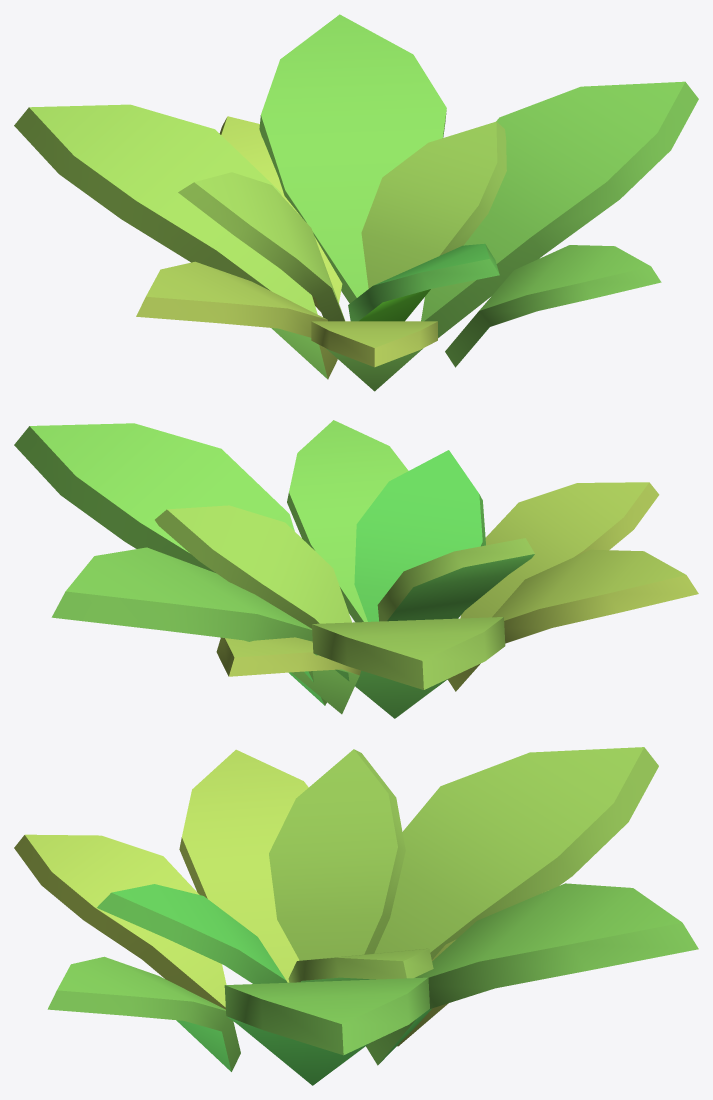
File: floor_grass.fbx
The picture shows the model from 3 angles, top to bottom: view 1: azimuth 30°, elevation 25°; view 2: azimuth 150°, elevation 25°; view 3: azimuth 270°, elevation 25°; orthographic projection. The views are drawn at different scales.
Visible parts, largest first — view 1: floor_grass; view 2: floor_grass; view 3: floor_grass.
Boxes of the visible parts, box(x1,y1,x2,y2) form: floor_grass: box(14, 14, 698, 391); floor_grass: box(14, 420, 698, 718); floor_grass: box(14, 747, 698, 1085).
Size of the model in its own units: 108 by 34.76 by 95.43.
